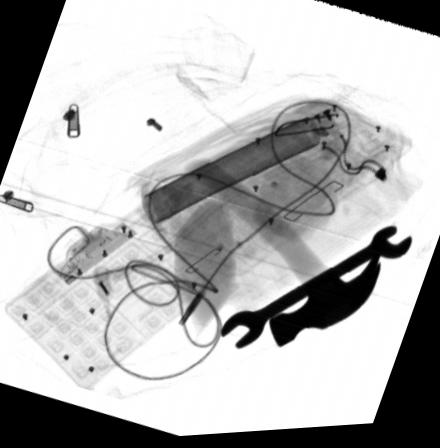Hammer: (183, 159, 381, 350)
Wrench: (221, 231, 412, 353)
